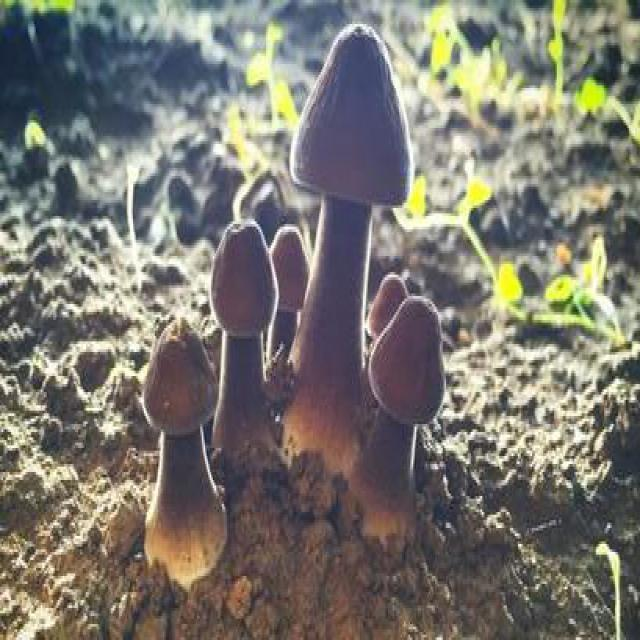Collybia albuminosa: (289, 24, 410, 462), (143, 316, 228, 578), (369, 295, 442, 529), (211, 218, 277, 460), (270, 224, 310, 364)
